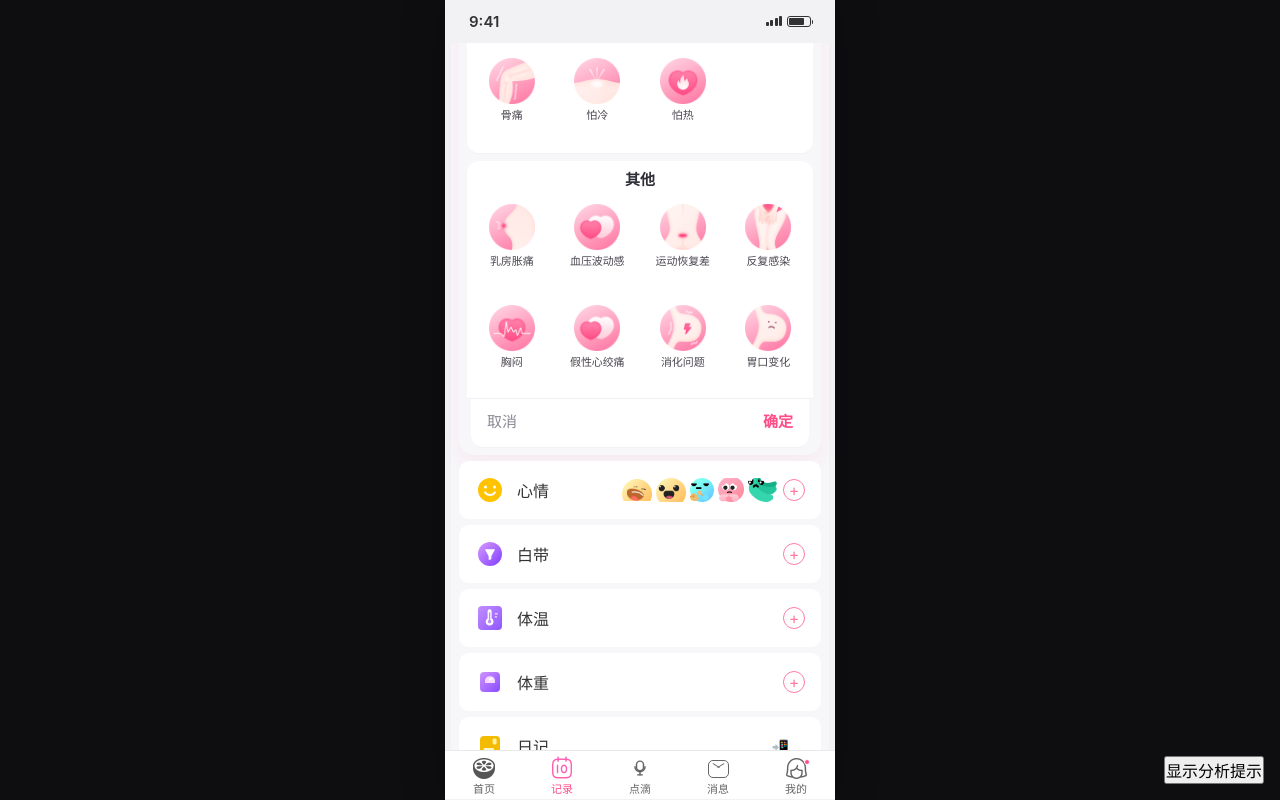
Test case: scene1 ui › opens a compact tip modal after confirming symptom selection
(page scrolled)
Step 1. Click the button "确定" → click(778, 421), box [763,399,793,443]
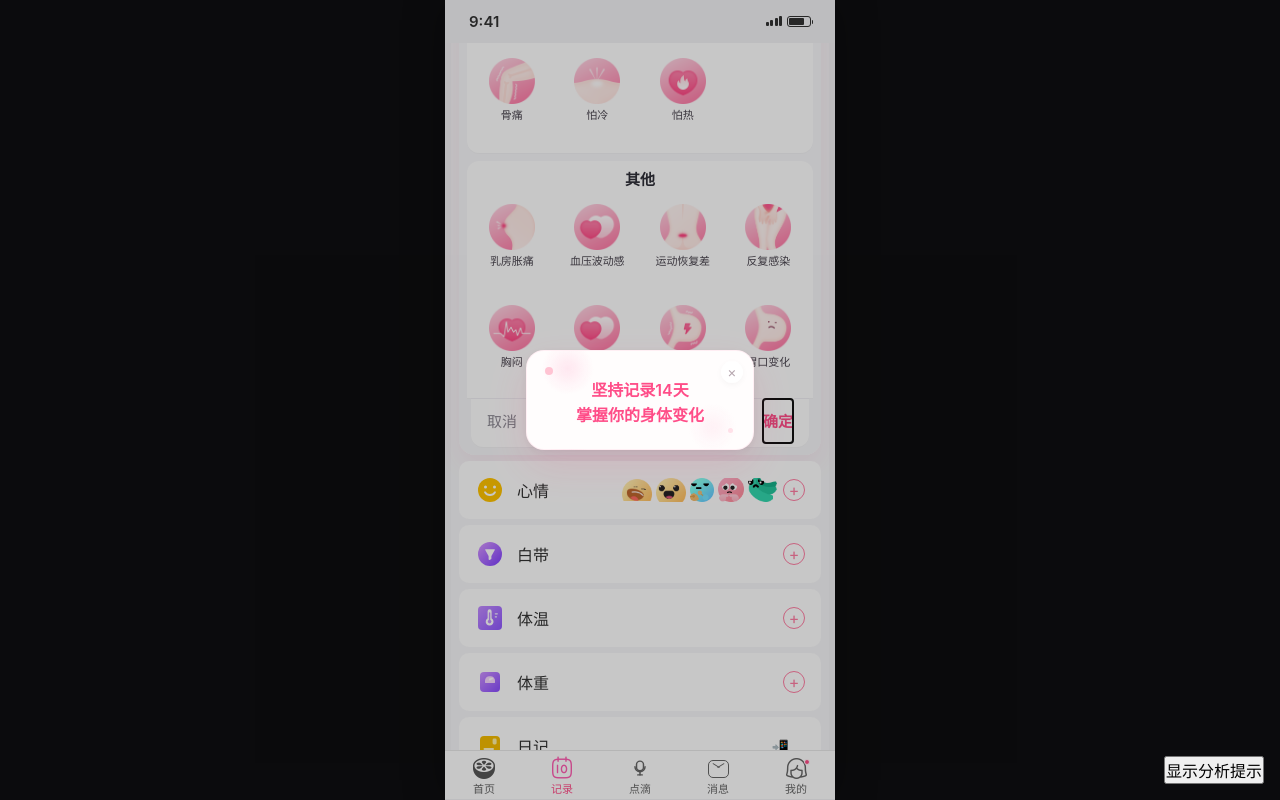
Check: the dialog with test id "scene1-perimenopause-tip-modal" is shown, box [526,350,754,450]
Check: the button named "关闭提示" is shown, box [721,361,743,383]
